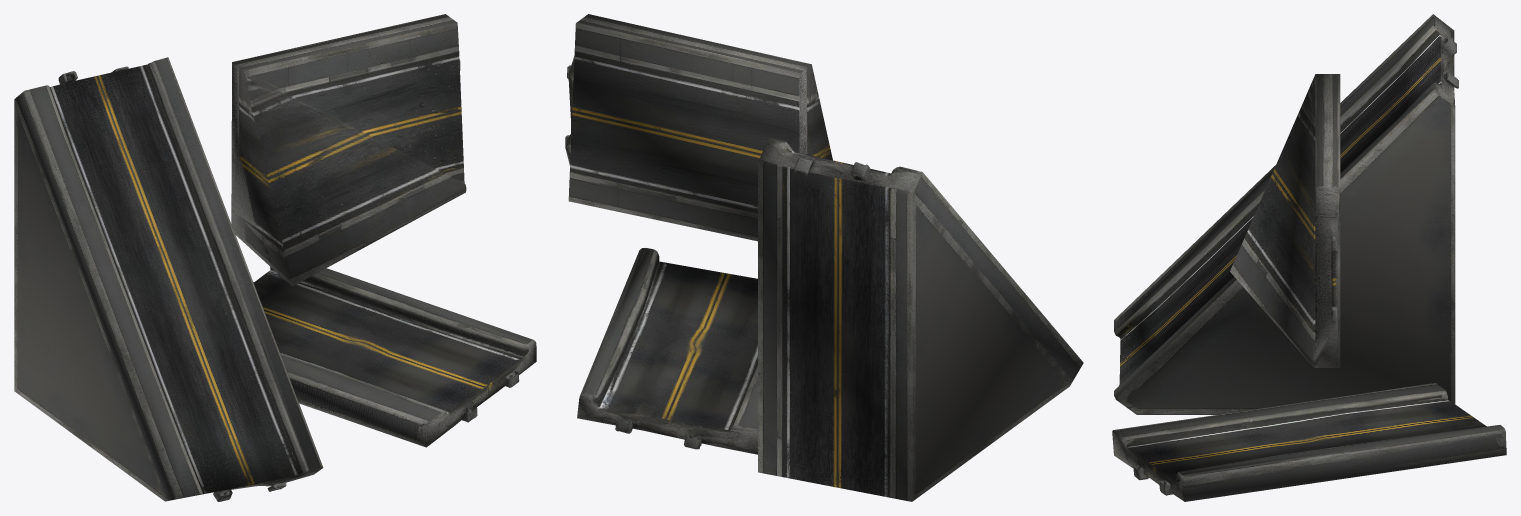
Rendered from selected.glb.
3 views of the same model, side by side, from view 1: azimuth 30°, elevation 25°; view 2: azimuth 150°, elevation 25°; view 3: azimuth 270°, elevation 25° (orthographic). The views are drawn at different scales.
Parts seen in each view (by area): view 1: tripo_node_564674d3-24bc-4f66-97a6-0e96d2ee8127; view 2: tripo_node_564674d3-24bc-4f66-97a6-0e96d2ee8127; view 3: tripo_node_564674d3-24bc-4f66-97a6-0e96d2ee8127.
Boxes of the visible parts, bbox=[...] form: tripo_node_564674d3-24bc-4f66-97a6-0e96d2ee8127: bbox=[14, 14, 536, 501]; tripo_node_564674d3-24bc-4f66-97a6-0e96d2ee8127: bbox=[565, 14, 1083, 501]; tripo_node_564674d3-24bc-4f66-97a6-0e96d2ee8127: bbox=[1112, 14, 1506, 501].
Size of the model in its own units: 0.998 by 0.8262 by 0.8379.
Materials: 1 (1 with a texture image).
